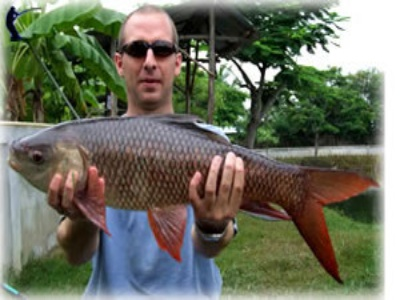rohu: (7, 111, 371, 286)
